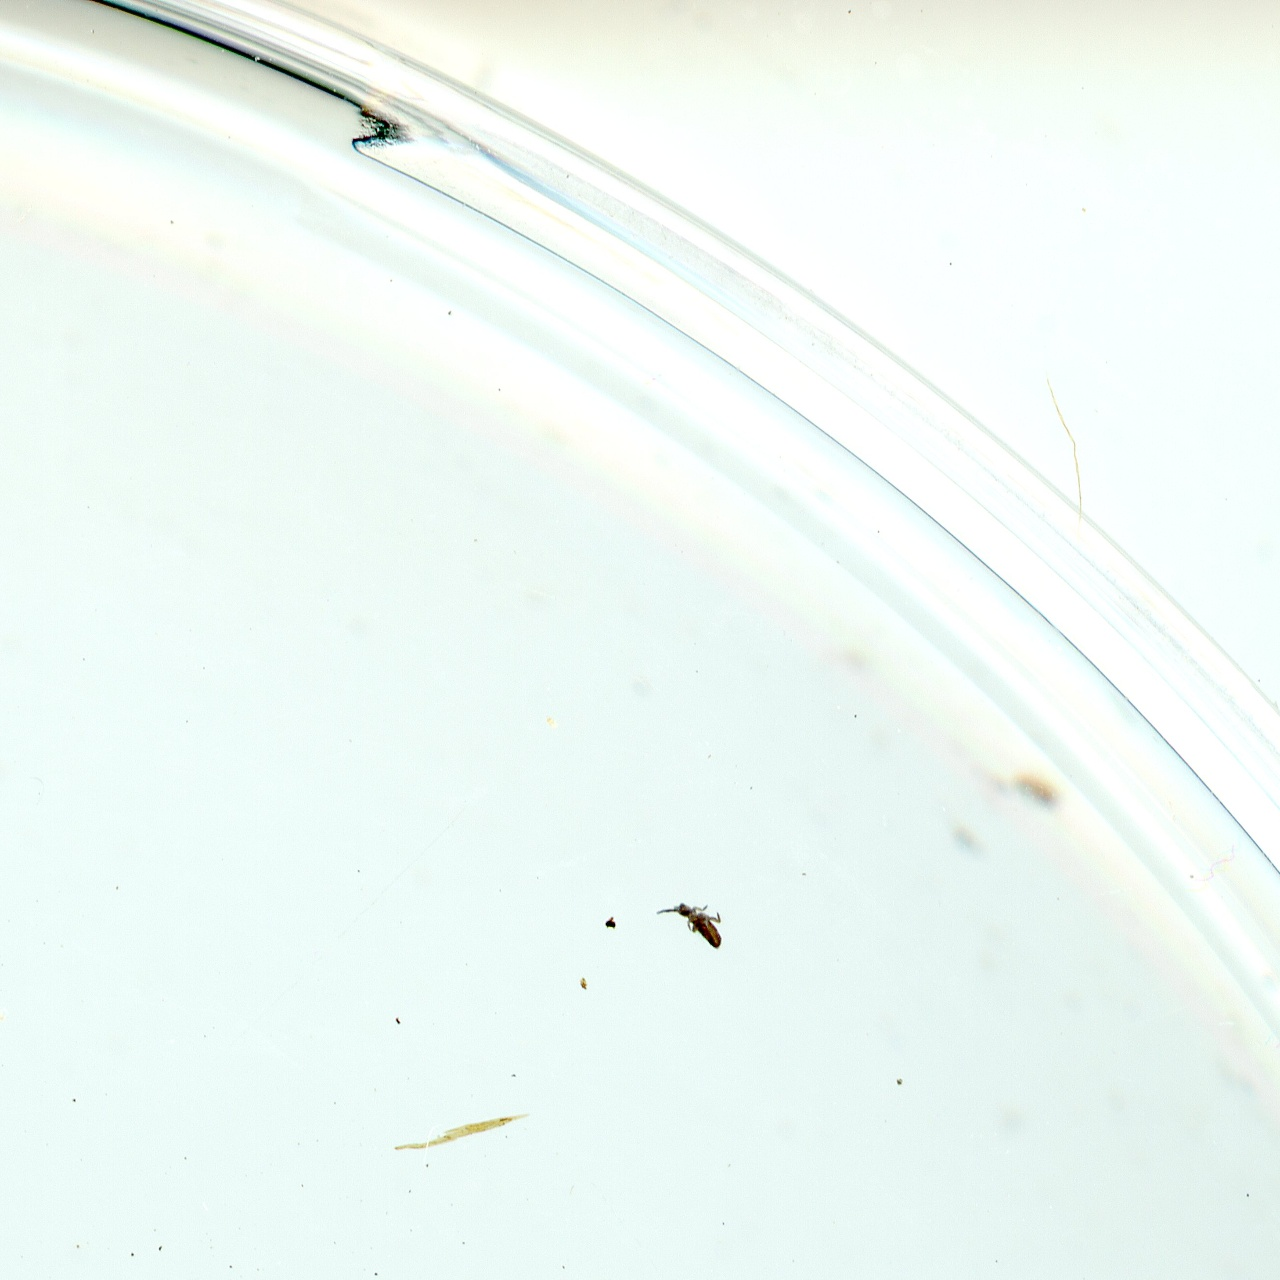arthropod: (654, 892, 726, 954)
